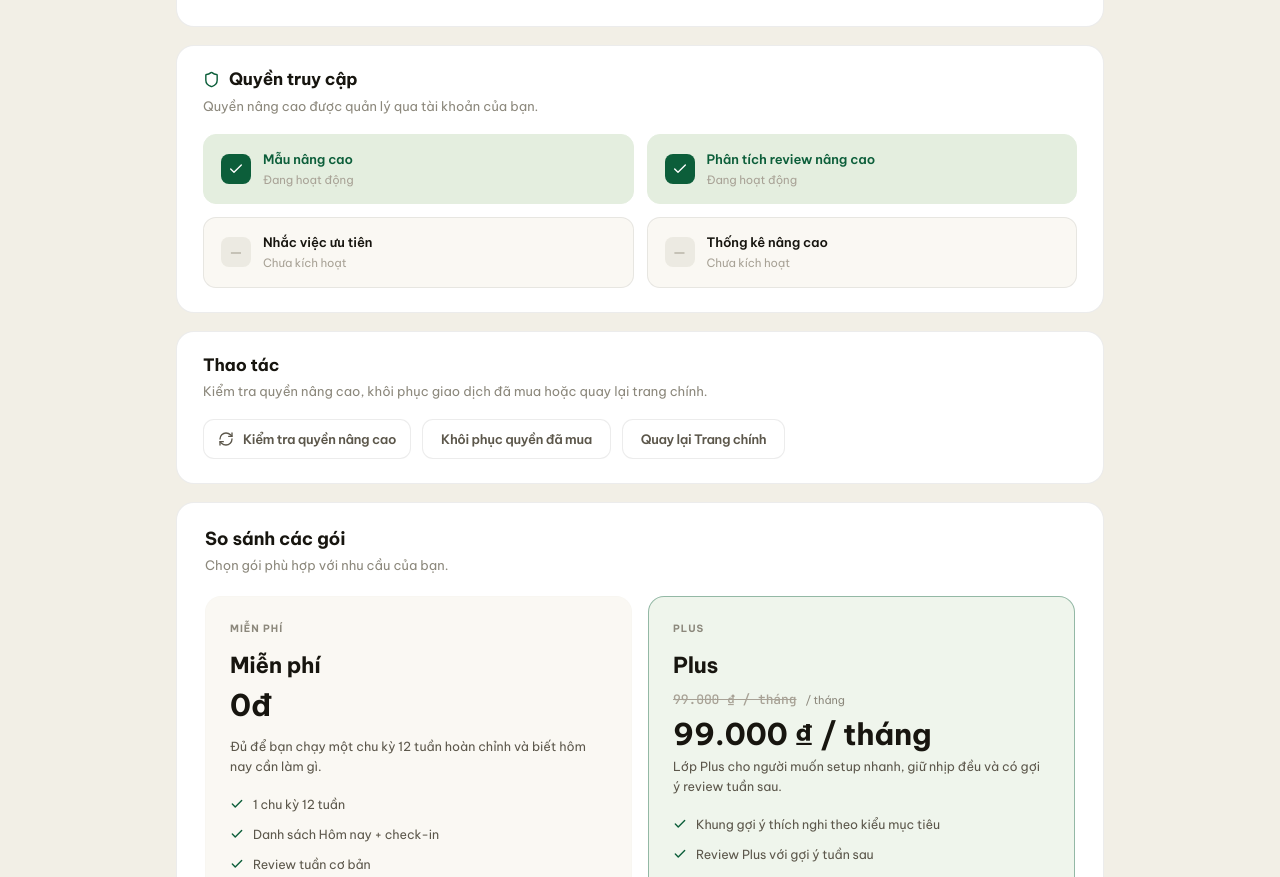
it: production billing surfaces › updates the billing page to scheduled-cancel state after entitlement sync
(page scrolled)
Click the button "Kiểm tra quyền nâng cao" at (307, 439), box x1=203 y1=419 x2=411 y2=459
(page scrolled)
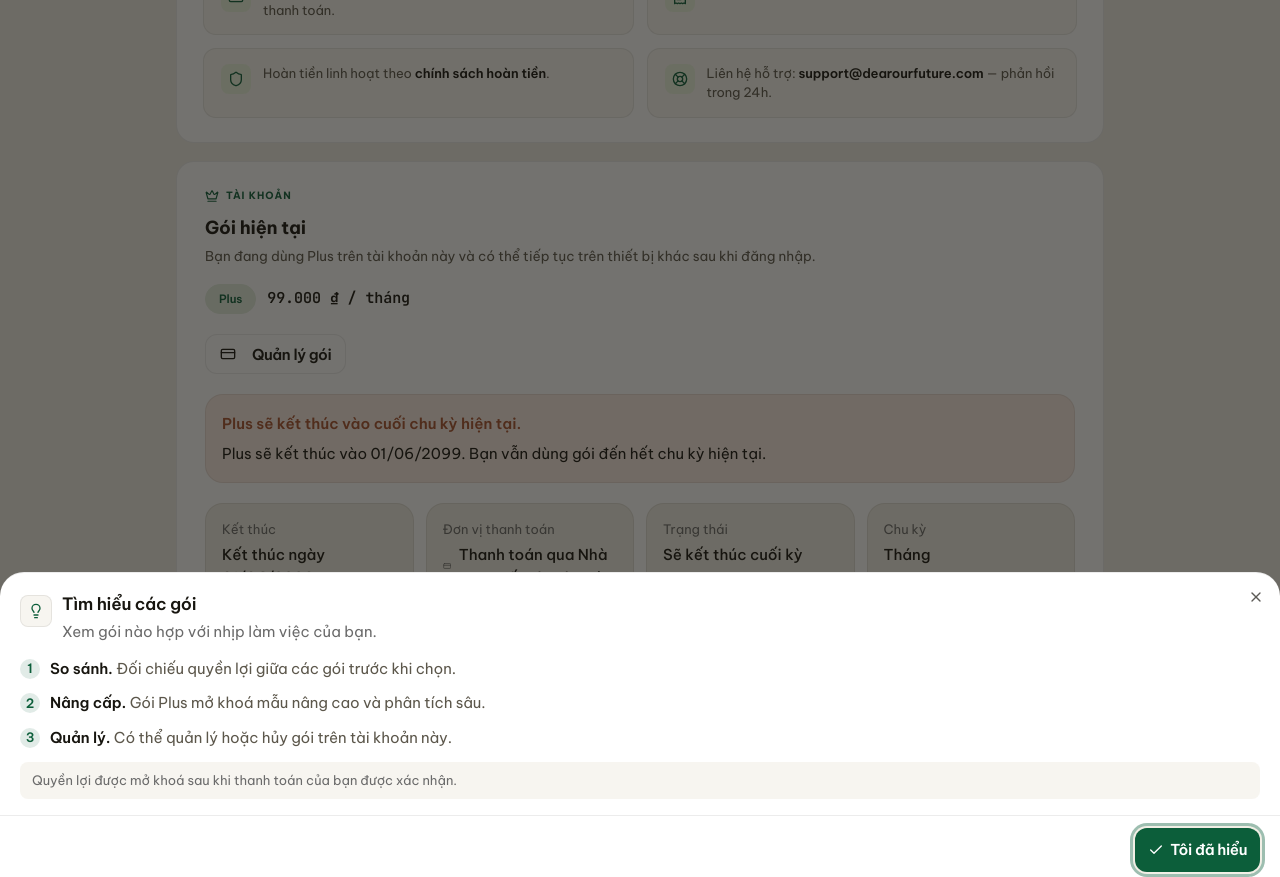
Result: the text "Sẽ kết thúc cuối kỳ" is shown at x1=663 y1=544 x2=802 y2=564
Result: the element with test id "billing-cancel-at-period-end-result" shows "Plus sẽ kết thúc vào 01/06/2099" at x1=222 y1=444 x2=766 y2=462
